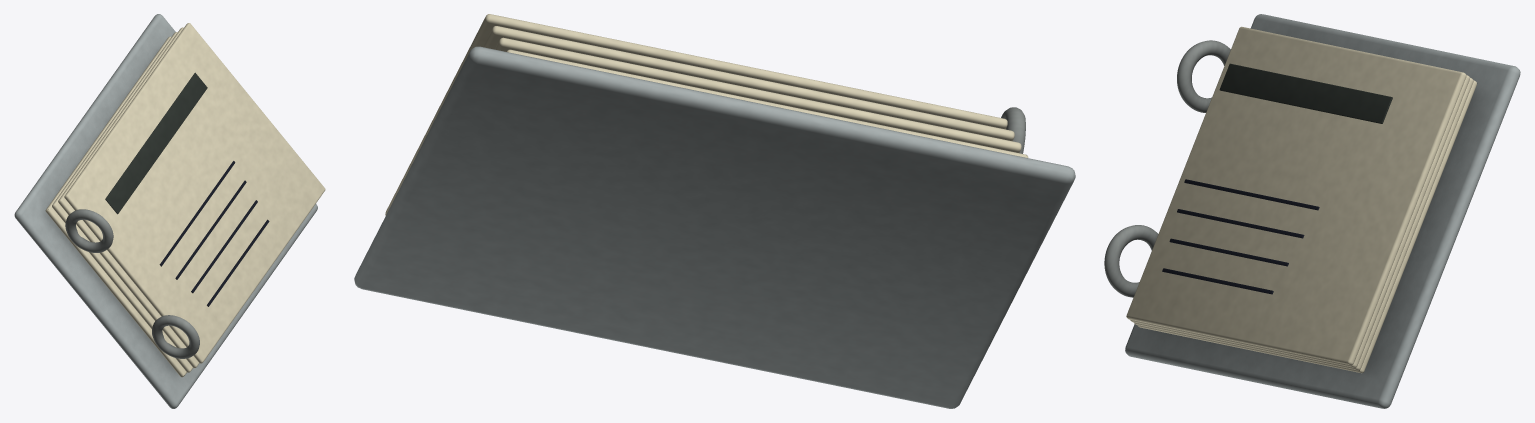
3 renders of one model, left to right at view 1: azimuth 30°, elevation 25°; view 2: azimuth 150°, elevation 25°; view 3: azimuth 270°, elevation 25°, orthographic. The views are drawn at different scales.
Visible parts, largest first — view 1: Folded document backing; view 2: Folded document backing; view 3: Folded document backing.
Boxes of the visible parts, <box> form: Folded document backing: <box>14,14,325,408</box>; Folded document backing: <box>354,14,1075,408</box>; Folded document backing: <box>1104,14,1520,408</box>.
Size of the model in its own units: 1.35 by 0.9949 by 1.
Materials: 1 (1 with a texture image).
